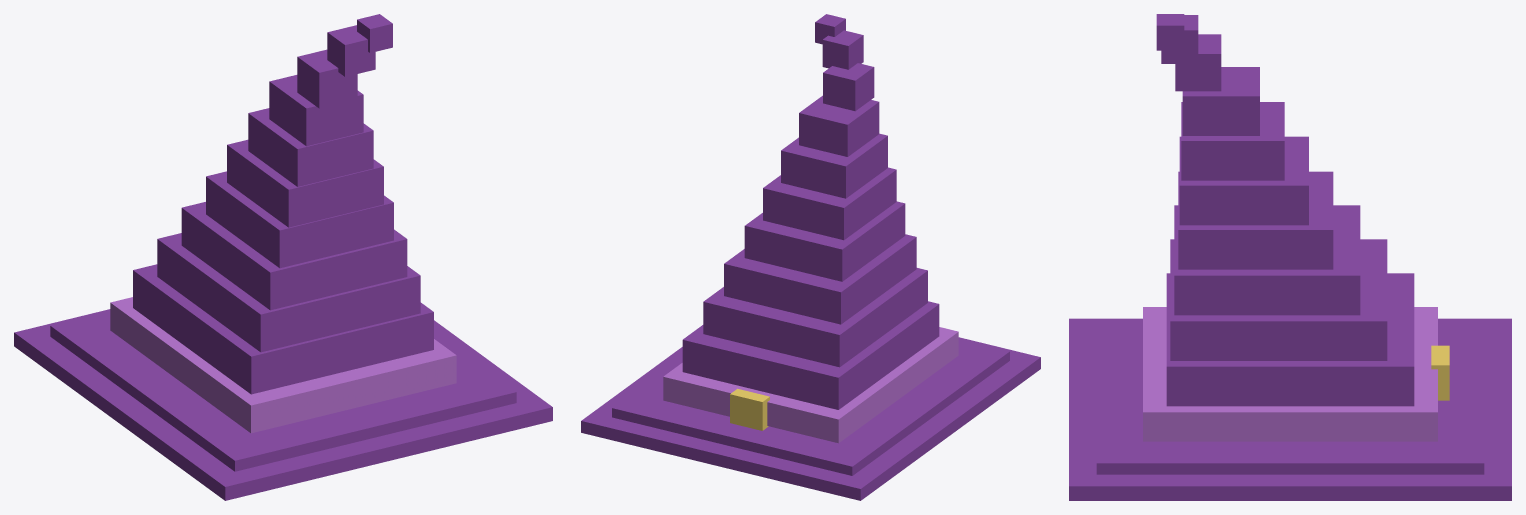
The model's file is chapeu_feiticeiro_bruxa.glb.
3 renders of one model, left to right at view 1: azimuth 30°, elevation 25°; view 2: azimuth 150°, elevation 25°; view 3: azimuth 270°, elevation 25°, orthographic. The views are drawn at different scales.
Parts seen in each view (by area): view 1: chapeu_feiticeiro_bruxa; view 2: chapeu_feiticeiro_bruxa; view 3: chapeu_feiticeiro_bruxa.
Boxes of the visible parts, <box> form: chapeu_feiticeiro_bruxa: <box>14,14,552,500</box>; chapeu_feiticeiro_bruxa: <box>581,14,1040,500</box>; chapeu_feiticeiro_bruxa: <box>1069,14,1511,500</box>.
Bounding box in the file's own units: 0.86 × 0.9925 × 0.96.
